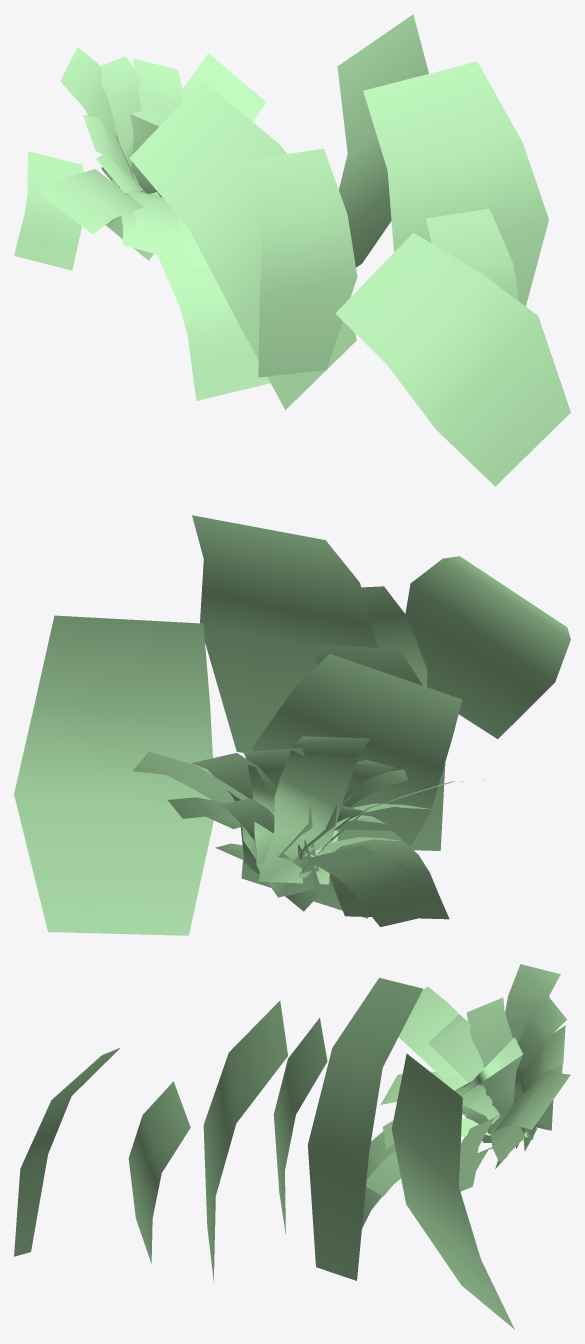
The model's file is sm_2dplants_02.gltf.
3 renders of one model, top to bottom at view 1: azimuth 30°, elevation 25°; view 2: azimuth 150°, elevation 25°; view 3: azimuth 270°, elevation 25°, orthographic. The views are drawn at different scales.
Visible parts, largest first — view 1: sm_2dplants_02; view 2: sm_2dplants_02; view 3: sm_2dplants_02.
Part boxes in pixels (left/top/right/bottom): sm_2dplants_02: left=14, top=14, right=570, bottom=486; sm_2dplants_02: left=14, top=515, right=570, bottom=935; sm_2dplants_02: left=14, top=964, right=570, bottom=1329.
Bounding box in the file's own units: 1.31 × 0.9542 × 1.64.
